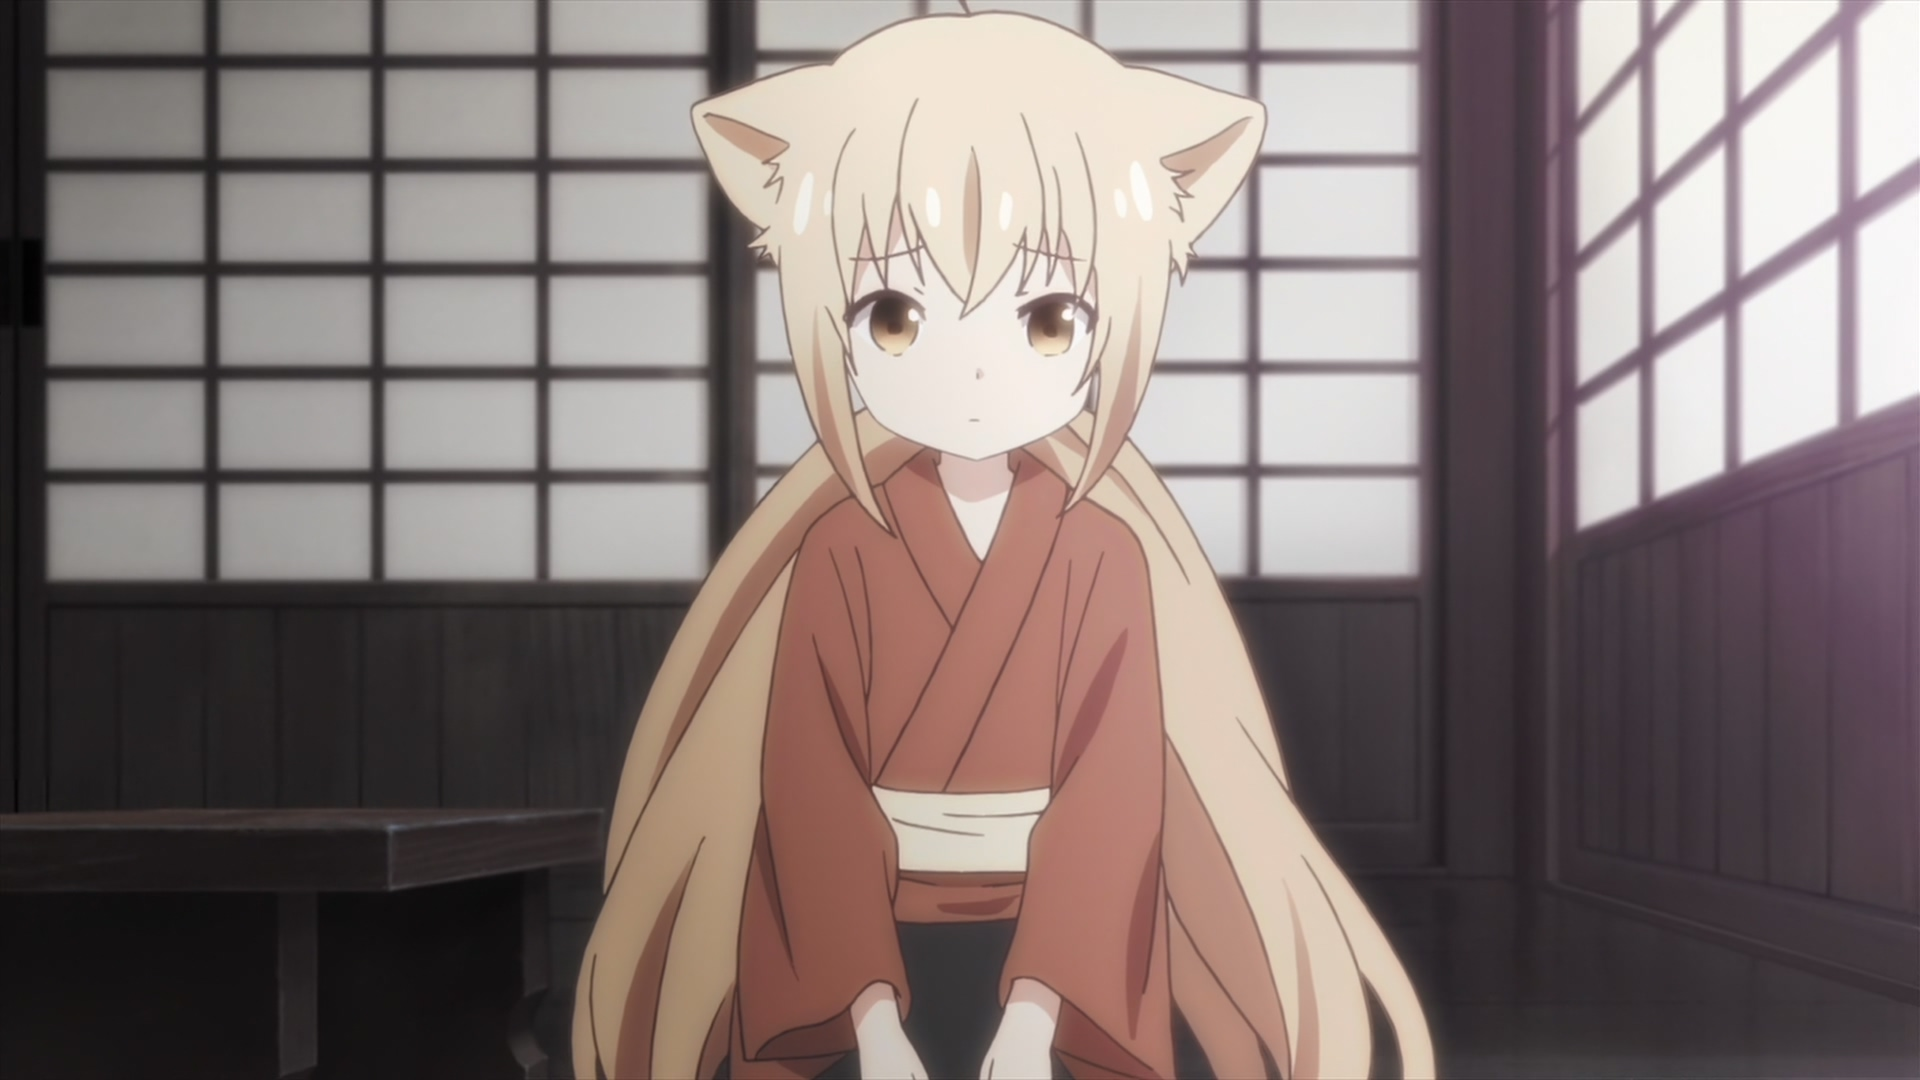柚: (572, 1, 1436, 1080)
